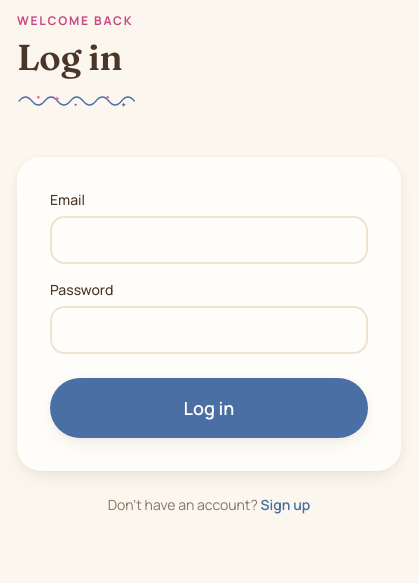
Test case: Login page › shows a validation error instead of submitting an invalid login
What coordinates should you click on to do the following:
click the button "Log in"
I would click on:
 (209, 408)
Its box is [50,378,368,438].
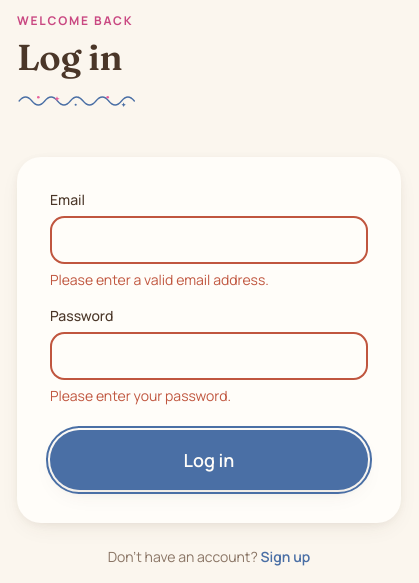
Expected: the heading "Log in" is shown, [17,37,122,77]
Expected: the text "Please enter a valid email address." is shown, [50,270,269,289]
